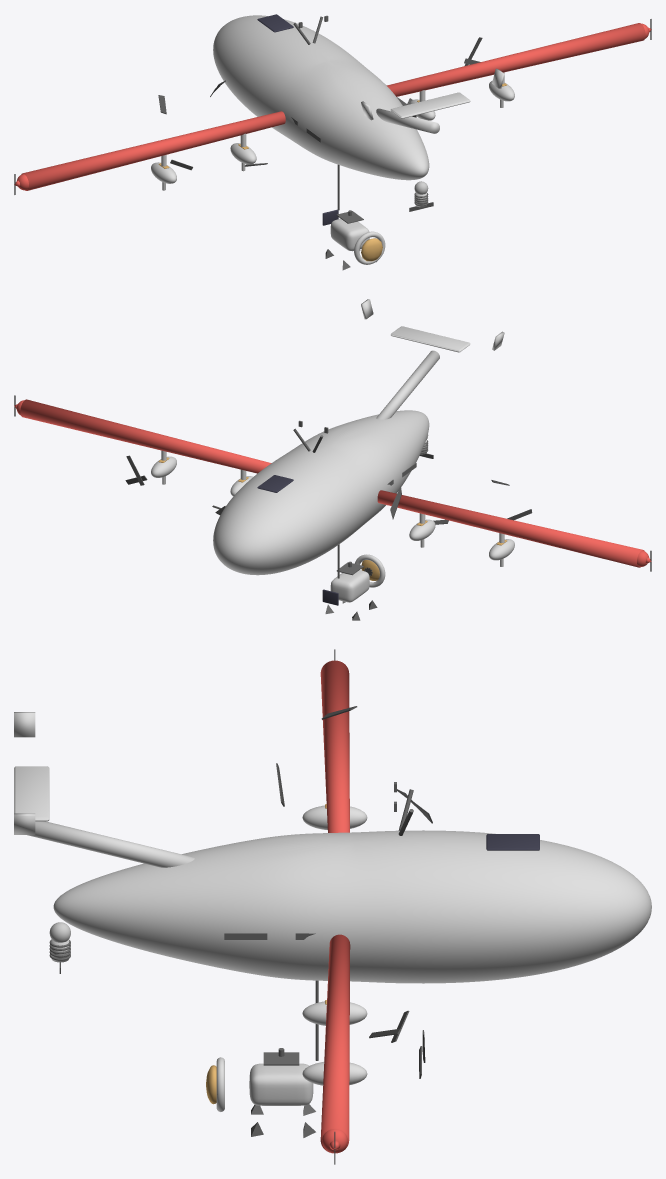
The model's file is drone_medic.glb.
3 views of the same model, one above another, from view 1: azimuth 30°, elevation 25°; view 2: azimuth 150°, elevation 25°; view 3: azimuth 270°, elevation 25° (orthographic). The views are drawn at different scales.
Visible parts, largest first — view 1: Fuselage, Boom_L, Boom_R, H_Stabilizer, Droid_Body, TailBoom, Droid_DuctRing, Droid_MeshGuard, Sensor_Panel, VTOLPod_0; view 2: Fuselage, Boom_L, Boom_R, TailBoom, H_Stabilizer, Droid_Body; view 3: Fuselage, Boom_R, Boom_L, TailBoom, Droid_Body, H_Stabilizer, Sensor_Panel, VTOLPod_1, VTOLPod_2.
Boxes of the visible parts, x1=… form: Fuselage: x1=213, y1=15, x2=429, y2=180; Boom_L: x1=21, y1=111, x2=285, y2=190; Boom_R: x1=386, y1=23, x2=645, y2=96; H_Stabilizer: x1=390, y1=92, x2=470, y2=118; Droid_Body: x1=330, y1=218, x2=369, y2=250; TailBoom: x1=376, y1=108, x2=439, y2=133; Droid_DuctRing: x1=354, y1=231, x2=385, y2=264; Droid_MeshGuard: x1=361, y1=238, x2=382, y2=261; Sensor_Panel: x1=257, y1=14, x2=293, y2=32; VTOLPod_0: x1=230, y1=143, x2=256, y2=164; Fuselage: x1=213, y1=410, x2=429, y2=575; Boom_L: x1=377, y1=490, x2=644, y2=567; Boom_R: x1=20, y1=399, x2=271, y2=473; TailBoom: x1=376, y1=350, x2=439, y2=419; H_Stabilizer: x1=390, y1=326, x2=470, y2=352; Droid_Body: x1=330, y1=570, x2=369, y2=602; Fuselage: x1=53, y1=830, x2=651, y2=983; Boom_R: x1=320, y1=934, x2=350, y2=1153; Boom_L: x1=320, y1=660, x2=349, y2=832; TailBoom: x1=27, y1=821, x2=194, y2=867; Droid_Body: x1=249, y1=1063, x2=313, y2=1105; H_Stabilizer: x1=14, y1=766, x2=49, y2=821; Sensor_Panel: x1=486, y1=834, x2=539, y2=850; VTOLPod_1: x1=302, y1=805, x2=367, y2=829; VTOLPod_2: x1=302, y1=1001, x2=367, y2=1025.
Size of what is drawn, in the model's own units: 3.21 by 1.12 by 1.79.
